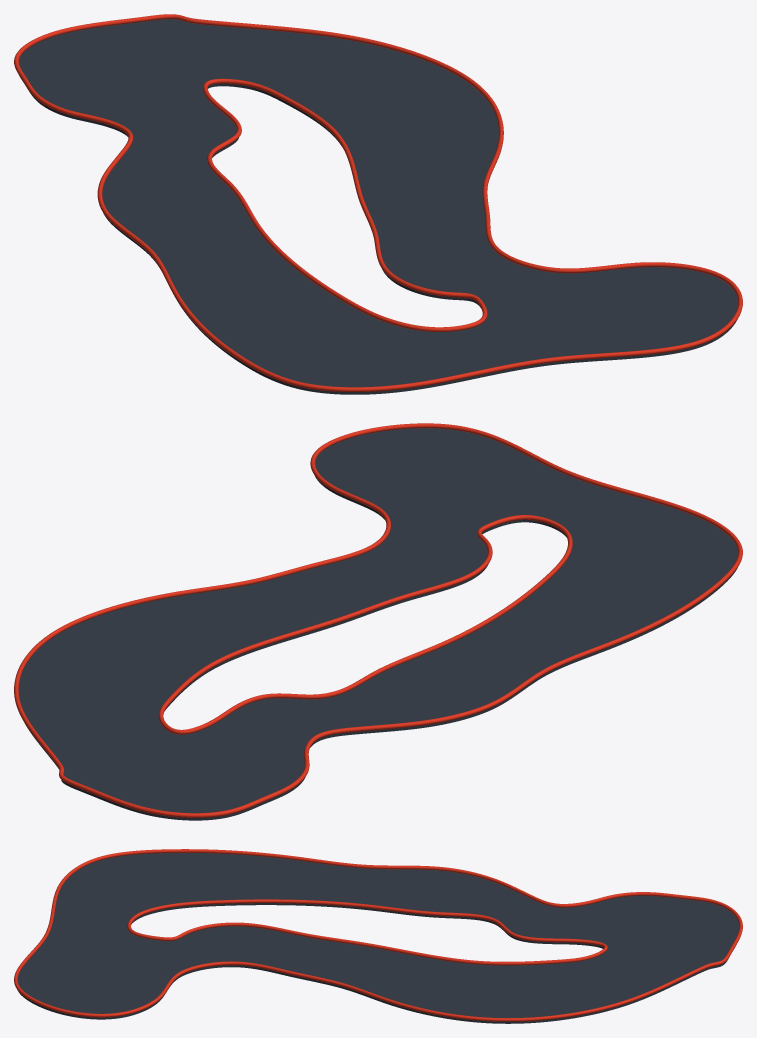
The model's file is sketch_track.obj.
3 renders of one model, top to bottom at view 1: azimuth 30°, elevation 25°; view 2: azimuth 150°, elevation 25°; view 3: azimuth 270°, elevation 25°, orthographic. The views are drawn at different scales.
Visible parts, largest first — view 1: Track_Surface, Outer_Barrier, Inner_Barrier; view 2: Track_Surface, Outer_Barrier, Inner_Barrier; view 3: Track_Surface, Outer_Barrier, Inner_Barrier.
Part boxes in pixels (x1=…): Track_Surface: x1=19, y1=19, x2=737, y2=394; Outer_Barrier: x1=14, y1=14, x2=742, y2=391; Inner_Barrier: x1=203, y1=78, x2=487, y2=331; Track_Surface: x1=18, y1=428, x2=738, y2=820; Outer_Barrier: x1=14, y1=423, x2=742, y2=817; Inner_Barrier: x1=158, y1=515, x2=572, y2=734; Track_Surface: x1=17, y1=853, x2=739, y2=1023; Outer_Barrier: x1=14, y1=849, x2=742, y2=1021; Inner_Barrier: x1=127, y1=899, x2=607, y2=965.
Bounding box in the file's own units: 16.69 × 0.2524 × 30.15.
